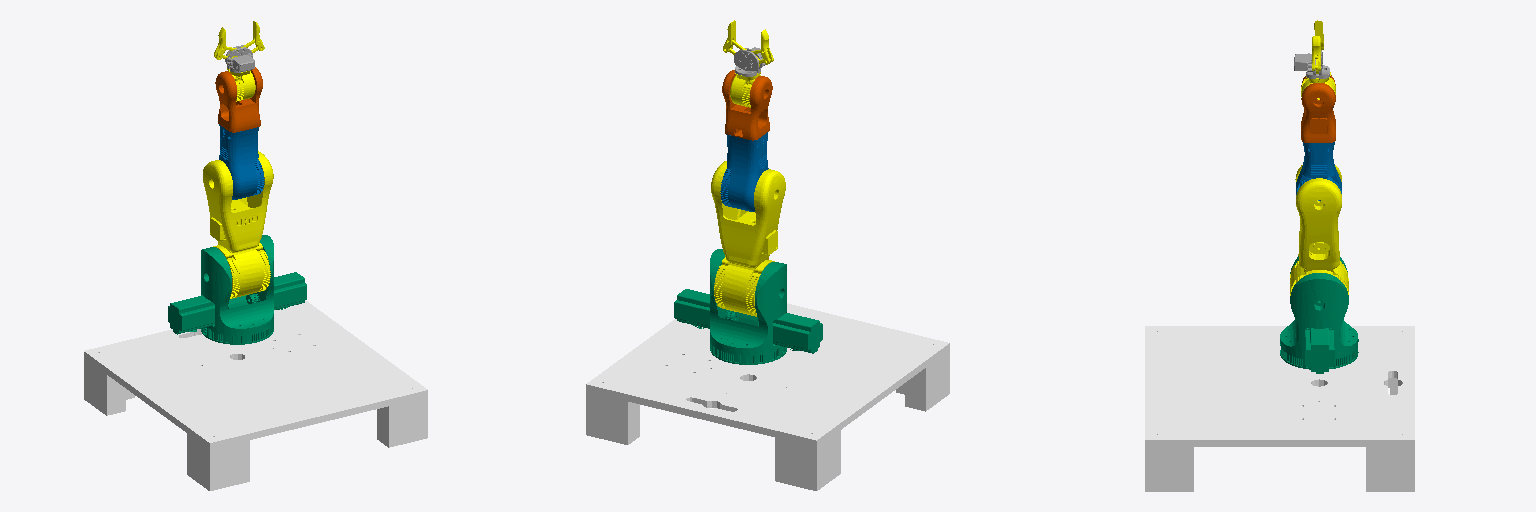
URDF robot description (centauri6dof):
<robot
  name="centauri6dof">

	  <material name="table6dof">
			<color rgba="1 1 1 1"/>
		</material>

	  <material name="black6dof">
			<color rgba="0.2 0,[number redacted] 0,[number redacted] 1"/>
		</material>

	  <material name="yellow6dof">
			<color rgba="1 1 0 1"/>
		</material>

  <link
    name="base_link">
    <inertial>
      <origin
        xyz="-3.87008276523659E-05 -0.0817645704237657 -0.030378156140952"
        rpy="0 0 0" />
      <mass
        value="3.65383133115989" />
      <inertia
        ixx="0.0796437064139586"
        ixy="-1.35807816685381E-07"
        ixz="3.16441218494544E-06"
        iyy="0.0796383423261766"
        iyz="0.000125066867569525"
        izz="0.153453766842238" />
    </inertial>
    <visual>
      <origin
        xyz="0 0 0"
        rpy="0 0 0" />
      <geometry>
        <mesh
          filename="package://centauri6dof/meshes/base_link.STL" />
      </geometry>
			<material name="table6dof"/>
    </visual>
    <collision>
      <origin
        xyz="0 0 0"
        rpy="0 0 0" />
      <geometry>
        <mesh
          filename="package://centauri6dof/meshes/base_link.STL" />
      </geometry>
    </collision>
  </link>
<!--//////////////////////////////////////////////////////////-->
  <link
    name="link0">
    <inertial>
      <origin
        xyz="0.0807291362657826 1.35637930692711E-07 0.0322703892739422"
        rpy="0 0 0" />
      <mass
        value="1.5913265865128" />
      <inertia
        ixx="5.94829545708689E-05"
        ixy="-1.38396838427451E-08"
        ixz="0.000236581332428518"
        iyy="0.00772725923039858"
        iyz="5.49261711838682E-09"
        izz="0.00774092887972647" />
    </inertial>
    <visual>
      <origin
        xyz="0 0 0"
        rpy="0 0 0" />
      <geometry>
        <mesh
          filename="package://centauri6dof/meshes/link0.STL" />
      </geometry>
      <material name="yellow6dof"/>
    </visual>
    <collision>
      <origin
        xyz="0 0 0"
        rpy="0 0 0" />
      <geometry>
        <mesh
          filename="package://centauri6dof/meshes/link0.STL" />
      </geometry>
    </collision>
  </link>
  <joint
    name="joint0"
    type="fixed">
    <origin
      xyz="0 0 0"
      rpy="0 0 0" />
    <parent
      link="base_link" />
    <child
      link="link0" />
    <axis
      xyz="0 0 0" />
  </joint>
<!--//////////////////////////////////////////////////////////-->
  <link
    name="link1">
    <inertial>
      <origin
        xyz="3.76244275456517E-05 0.07417823767633 -8.98233600953868E-05"
        rpy="0 0 0" />
      <mass
        value="2.01538850239224" />
      <inertia
        ixx="0.00353227137515841"
        ixy="9.696639397941E-06"
        ixz="0.00297171917890993"
        iyy="0.0074634181349595"
        iyz="-1.00852639929973E-06"
        izz="0.0080464620891467" />
    </inertial>
    <visual>
      <origin
        xyz="0 0 0"
        rpy="0 0 0" />
      <geometry>
        <mesh
          filename="package://centauri6dof/meshes/link1.STL" />
      </geometry>
      <material name="black6dof"/>
    </visual>
    <collision>
      <origin
        xyz="0 0 0"
        rpy="0 0 0" />
      <geometry>
        <mesh
          filename="package://centauri6dof/meshes/link1.STL" />
      </geometry>
    </collision>
  </link>
  <joint
    name="joint1"
    type="revolute">
    <origin
      xyz="0 0 0.0660000000000001"
      rpy="1.5707963267949 0 -0.452226747641724" />
    <parent
      link="link0" />
    <child
      link="link1" />
    <axis
      xyz="0 1 0" />
     <limit
      lower="-1.5707"
      upper="1.5707"
      effort="300"
      velocity="1" />
  </joint>
<!--//////////////////////////////////////////////////////////-->
  <link
    name="link2">
    <inertial>
      <origin
        xyz="0.00019803 0.082039 0.0010087"
        rpy="0 0 0" />
      <mass
        value="1.9635" />
      <inertia
        ixx="0.012176"
        ixy="-2.6636E-05"
        ixz="-4.6349E-07"
        iyy="0.00060347"
        iyz="-0.00013766"
        izz="0.011573" />
    </inertial>
    <visual>
      <origin
        xyz="0 0 0"
        rpy="0 0 0" />
      <geometry>
        <mesh
          filename="package://centauri6dof/meshes/link2.STL" />
      </geometry>
      <material name="yellow6dof"/>
    </visual>
    <collision>
      <origin
        xyz="0 0 0"
        rpy="0 0 0" />
      <geometry>
        <mesh
          filename="package://centauri6dof/meshes/link2.STL" />
      </geometry>
    </collision>
  </link>
  <joint
    name="joint2"
    type="revolute">
    <origin
      xyz="0 0.1455 0"
      rpy="0 -1.11019042810366 0" />
    <parent
      link="link1" />
    <child
      link="link2" />
    <axis
      xyz="0 0 -1" />
    <limit
      lower="-1.5707"
      upper="1.5707"
      effort="5"
      velocity="1" />
  </joint>
<!--//////////////////////////////////////////////////////////-->
  <link
    name="link3">
    <inertial>
      <origin
        xyz="0.000626139076089688 0.0486487096653359 0.000675674262400602"
        rpy="0 0 0" />
      <mass
        value="1.18050061400462" />
      <inertia
        ixx="0.000542025469135715"
        ixy="-1.13899929472064E-05"
        ixz="-2.51651442756918E-07"
        iyy="0.000253426581911029"
        iyz="-1.51961207048325E-05"
        izz="0.000289498592185195" />
    </inertial>
    <visual>
      <origin
        xyz="0 0 0"
        rpy="0 0 0" />
      <geometry>
        <mesh
          filename="package://centauri6dof/meshes/link3.STL" />
      </geometry>
      <material name="black6dof"/>
    </visual>
    <collision>
      <origin
        xyz="0 0 0"
        rpy="0 0 0" />
      <geometry>
        <mesh
          filename="package://centauri6dof/meshes/link3.STL" />
      </geometry>
    </collision>
  </link>
  <joint
    name="joint3"
    type="revolute">
    <origin
      xyz="0.000683655378621667 0.221122735963581 -0.0034958933328718"
      rpy="-3.51525449374113E-16 3.46944695195361E-18 0" />
    <parent
      link="link2" />
    <child
      link="link3" />
    <axis
      xyz="0 0 -1" />
    <limit
      lower="-1.5707"
      upper="1.5707"
      effort="5"
      velocity="1" />
  </joint>
<!--//////////////////////////////////////////////////////////-->
  <link
    name="link4">
    <inertial>
      <origin
        xyz="0.011293 -0.00022493 0.045445"
        rpy="0 0 0" />
      <mass
        value="0.65268" />
      <inertia
        ixx="4.43E-05"
        ixy="-1.9291E-06"
        ixz="5.7823E-05"
        iyy="0.00012329"
        iyz="1.4718E-06"
        izz="7.9091E-05" />
    </inertial>
    <visual>
      <origin
        xyz="0 0 0"
        rpy="0 0 0" />
      <geometry>
        <mesh
          filename="package://centauri6dof/meshes/link4.STL" />
      </geometry>
      <material name="black6dof"/>
    </visual>
    <collision>
      <origin
        xyz="0 0 0"
        rpy="0 0 0" />
      <geometry>
        <mesh
          filename="package://centauri6dof/meshes/link4.STL" />
      </geometry>
    </collision>
  </link>
  <joint
    name="joint4"
    type="revolute">
    <origin
      xyz="0.00043975 0.1275 0"
      rpy="-1.5708 1.5624 -0.0034491" />
    <parent
      link="link3" />
    <child
      link="link4" />
    <axis
      xyz="0 0 1" />
  <limit
      lower="-1.5707"
      upper="1.5707"
      effort="5"
      velocity="1" />
  </joint>
<!--//////////////////////////////////////////////////////////-->
  <link
    name="link5">
    <inertial>
      <origin
        xyz="0.00013449 0.004274 -0.00031217"
        rpy="0 0 0" />
      <mass
        value="0.16415" />
      <inertia
        ixx="3.7602E-05"
        ixy="-5.5077E-07"
        ixz="9.5822E-09"
        iyy="2.0116E-05"
        iyz="3.0426E-07"
        izz="1.7521E-05" />
    </inertial>
    <visual>
      <origin
        xyz="0 0 0"
        rpy="0 0 0" />
      <geometry>
        <mesh
          filename="package://centauri6dof/meshes/link5.STL" />
      </geometry>
      <material name="yellow6dof"/>
    </visual>
    <collision>
      <origin
        xyz="0 0 0"
        rpy="0 0 0" />
      <geometry>
        <mesh
          filename="package://centauri6dof/meshes/link5.STL" />
      </geometry>
    </collision>
  </link>
  <joint
    name="joint5"
    type="revolute">
    <origin
      xyz="-0.000999998579141709 0 0.0950000000001046"
      rpy="1.5707963267949 -0.0171419017753631 -1.56911057527423" />
    <parent
      link="link4" />
    <child
      link="link5" />
    <axis
      xyz="0 0 -1" />
  <limit
      lower="-1.5707"
      upper="1.5707"
      effort="5"
      velocity="1" />
  </joint>
<!--//////////////////////////////////////////////////////////-->
  <link
    name="link6">
    <inertial>
      <origin
        xyz="-0.0028307 -0.014417 0.020832"
        rpy="0 0 0" />
      <mass
        value="0.064418" />
      <inertia
        ixx="1.6924E-05"
        ixy="-3.1692E-06"
        ixz="6.6553E-07"
        iyy="1.3455E-06"
        iyz="2.861E-06"
        izz="1.7067E-05" />
    </inertial>
    <visual>
      <origin
        xyz="0 0 0"
        rpy="0 0 0" />
      <geometry>
        <mesh
          filename="package://centauri6dof/meshes/link6.STL" />
      </geometry>
      <material name="black6dof"/>
    </visual>
    <collision>
      <origin
        xyz="0 0 0"
        rpy="0 0 0" />
      <geometry>
        <mesh
          filename="package://centauri6dof/meshes/link6.STL" />
      </geometry>
    </collision>
  </link>
  <joint
    name="joint6"
    type="revolute">
    <origin
      xyz="0.0012895 0.04098 0"
      rpy="1.6915E-08 1.5707 1.5393" />
    <parent
      link="link5" />
    <child
      link="link6" />
    <axis
      xyz="5.3025E-05 0 1" />
  <limit
      lower="-1.5707"
      upper="1.5707"
      effort="5"
      velocity="1" />
  </joint>
<!--//////////////////////////////////////////////////////////-->
  <link
    name="gear1">
    <inertial>
      <origin
        xyz="-0.0065946 -0.00039537 -0.003"
        rpy="0 0 0" />
      <mass
        value="0.0048785" />
      <inertia
        ixx="0"
        ixy="0"
        ixz="0"
        iyy="0"
        iyz="0"
        izz="0" />
    </inertial>
    <visual>
      <origin
        xyz="0 0 0"
        rpy="0 0 0" />
      <geometry>
        <mesh
          filename="package://centauri6dof/meshes/gear1.STL" />
      </geometry>
      <material name="yellow6dof"/>
    </visual>
    <collision>
      <origin
        xyz="0 0 0"
        rpy="0 0 0" />
      <geometry>
        <mesh
          filename="package://centauri6dof/meshes/gear1.STL" />
      </geometry>
    </collision>
  </link>
  <joint
    name="joint_gear1"
    type="revolute">
    <origin
      xyz="-0.0141687811604771 -0.00205172513025526 0.0240007513303376"
      rpy="1.57079248092531 0.383949555179722 -0.0673010584807898" />
    <parent
      link="link6" />
    <child
      link="gear1" />
    <axis
      xyz="0 0 1" />
   <limit
      lower="-0.95"
      upper="0"
      effort="5"
      velocity="1" />
   </joint>
<!--//////////////////////////////////////////////////////////-->
  <link
    name="pinza1">
    <inertial>
      <origin
        xyz="-0.00410677673607357 0.0288723262754511 -0.00325238297571179"
        rpy="0 0 0" />
      <mass
        value="0.0104910711600225" />
      <inertia
        ixx="0"
        ixy="0"
        ixz="0"
        iyy="0"
        iyz="0"
        izz="0" />
    </inertial>
    <visual>
      <origin
        xyz="0 0 0"
        rpy="0 0 0" />
      <geometry>
        <mesh
          filename="package://centauri6dof/meshes/pinza1.STL" />
      </geometry>
      <material name="yellow6dof"/>
    </visual>
    <collision>
      <origin
        xyz="0 0 0"
        rpy="0 0 0" />
      <geometry>
        <mesh
          filename="package://centauri6dof/meshes/pinza1.STL" />
      </geometry>
    </collision>
  </link>
  <joint
    name="joint_pinza1"
    type="continuous">
    <origin
      xyz="-0.0399999999999999 0 0"
      rpy="1.9909768278481E-13 -6.93889390390723E-18 1.08550321509249E-15" />
    <parent
      link="gear1" />
    <child
      link="pinza1" />
    <axis
      xyz="0 0 1" />
		<limit
      lower="-1.5"
      upper="0"
      effort="5"
      velocity="1" />
   <mimic joint="joint_gear1" multiplier="-1" offset="0"/> 
   </joint>
<!--//////////////////////////////////////////////////////////-->
  <link
    name="gear2">
    <inertial>
      <origin
        xyz="-0.00645273828292098 0.000406646504403807 -0.00300000575998524"
        rpy="0 0 0" />
      <mass
        value="0.00500318588067354" />
      <inertia
        ixx="0"
        ixy="0"
        ixz="0"
        iyy="0"
        iyz="0"
        izz="0" />
    </inertial>
    <visual>
      <origin
        xyz="0 0 0"
        rpy="0 0 0" />
      <geometry>
        <mesh
          filename="package://centauri6dof/meshes/gear2.STL" />
      </geometry>
      <material name="yellow6dof"/>
    </visual>
    <collision>
      <origin
        xyz="0 0 0"
        rpy="0 0 0" />
      <geometry>
        <mesh
          filename="package://centauri6dof/meshes/gear2.STL" />
      </geometry>
    </collision>
  </link>
  <joint
    name="joint_gear2"
    type="revolute">
    <origin
      xyz="0.0137678333896608 -0.00393469228070031 0.0239992699974896"
      rpy="-1.57079245405947 0.400771502354884 3.07429454658117" />
    <parent
      link="link6" />
    <child
      link="gear2" />
    <axis
      xyz="0 0 1" />
   <limit
      lower="0"
      upper="0.95"
      effort="5"
      velocity="1" />
    <!--<mimic joint="joint_gear1" multiplier="-1" offset="0"/>-->
  </joint>
<!--//////////////////////////////////////////////////////////-->
  <link
    name="pinza2">
    <inertial>
      <origin
        xyz="-0.00459491181291338 -0.028798660398803 -0.00325244127537946"
        rpy="0 0 0" />
      <mass
        value="0.0104910911949307" />
      <inertia
        ixx="0"
        ixy="0"
        ixz="0"
        iyy="0"
        iyz="0"
        izz="0" />
    </inertial>
    <visual>
      <origin
        xyz="0 0 0"
        rpy="0 0 0" />
      <geometry>
        <mesh
          filename="package://centauri6dof/meshes/pinza2.STL" />
      </geometry>
      <material name="yellow6dof"/>
    </visual>
    <collision>
      <origin
        xyz="0 0 0"
        rpy="0 0 0" />
      <geometry>
        <mesh
          filename="package://centauri6dof/meshes/pinza2.STL" />
      </geometry>
    </collision>
  </link>
  <joint
    name="joint_pinza2"
    type="revolute">
    <origin
      xyz="-0.0399999999999999 0 0"
      rpy="1.97708169280553E-13 0 1.18785190017512E-15" />
    <parent
      link="gear2" />
    <child
      link="pinza2" />
    <axis
      xyz="0 0 1" />
    <limit
      lower="-1.5"
      upper="0"
      effort="5"
      velocity="1" />
    <mimic joint="joint_gear2" multiplier="-1" offset="0"/>
  </joint>
<!--//////////////////////////////////////////////////////////-->
  <link
    name="pivot1">
    <inertial>
      <origin
        xyz="-0.019999999999913 3.73034936274053E-14 -0.00299999999909059"
        rpy="0 0 0" />
      <mass
        value="0.00167027391699942" />
      <inertia
        ixx="0"
        ixy="0"
        ixz="0"
        iyy="0"
        iyz="0"
        izz="0" />
    </inertial>
    <visual>
      <origin
        xyz="0 0 0"
        rpy="0 0 0" />
      <geometry>
        <mesh
          filename="package://centauri6dof/meshes/pivot1.STL" />
      </geometry>
      <material name="yellow6dof"/>
    </visual>
    <collision>
      <origin
        xyz="0 0 0"
        rpy="0 0 0" />
      <geometry>
        <mesh
          filename="package://centauri6dof/meshes/pivot1.STL" />
      </geometry>
    </collision>
  </link>
  <joint
    name="joint_pivot1"
    type="revolute">
    <origin
      xyz="-0.00718356702735162 -0.0025224669175542 0.044000380969009"
      rpy="1.57079248092551 0.383949555179722 -0.0673010584807898" />
    <parent
      link="link6" />
    <child
      link="pivot1" />
    <axis
      xyz="0 0 1" />
    <limit
      lower="-1.5707"
      upper="1.5707"
      effort="5"
      velocity="1" />
    <mimic joint="joint_gear1" multiplier="1" offset="0"/> 
  </joint>
<!--//////////////////////////////////////////////////////////-->
  <link
    name="pivot2">
    <inertial>
      <origin
        xyz="-0.0200000000003783 1.7963408538435E-13 -0.00299999999915881"
        rpy="0 0 0" />
      <mass
        value="0.00167027391699937" />
      <inertia
        ixx="0"
        ixy="0"
        ixz="0"
        iyy="0"
        iyz="0"
        izz="0" />
    </inertial>
    <visual>
      <origin
        xyz="0 0 0"
        rpy="0 0 0" />
      <geometry>
        <mesh
          filename="package://centauri6dof/meshes/pivot2.STL" />
      </geometry>
      <material name="yellow6dof"/>
    </visual>
    <collision>
      <origin
        xyz="0 0 0"
        rpy="0 0 0" />
      <geometry>
        <mesh
          filename="package://centauri6dof/meshes/pivot2.STL" />
      </geometry>
    </collision>
  </link>
  <joint
    name="joint_pivot2"
    type="revolute">
    <origin
      xyz="0.00678474024778378 -0.00346395049278106 0.0439996403025864"
      rpy="-1.57079245405947 0.400771502354882 3.07429454658117" />
    <parent
      link="link6" />
    <child
      link="pivot2" />
    <axis
      xyz="0 0 1" />
   <limit
      lower="-1.5707"
      upper="1.5707"
      effort="5"
      velocity="1" />
    <mimic joint="joint_gear2" multiplier="1" offset="0"/>
  </joint>
</robot>

--- What the picture shows (computed from the rendered views, not written in the file) ---
Views: 3 orthographic renders of the robot side by side, from view 1: azimuth 30°, elevation 25°; view 2: azimuth 150°, elevation 25°; view 3: azimuth 270°, elevation 25°.
Robot: centauri6dof — 14 links, 13 joints (11 revolute, 1 continuous, 1 fixed); root link base_link; default pose: every joint at zero.
Links seen in each view (by area): view 1: base_link, link1, link2, link3, link4, link6, link5; view 2: base_link, link1, link2, link3, link4, link6, link5; view 3: base_link, link1, link2, link4, link3, link6.
Link boxes in pixels (x1=…): base_link: x1=84, y1=300, x2=427, y2=490; link1: x1=168, y1=235, x2=306, y2=344; link2: x1=203, y1=151, x2=273, y2=298; link3: x1=219, y1=124, x2=264, y2=199; link4: x1=215, y1=67, x2=262, y2=132; link6: x1=225, y1=45, x2=254, y2=72; link5: x1=227, y1=68, x2=255, y2=101; base_link: x1=586, y1=303, x2=949, y2=490; link1: x1=674, y1=249, x2=822, y2=364; link2: x1=711, y1=161, x2=785, y2=316; link3: x1=720, y1=132, x2=768, y2=211; link4: x1=722, y1=70, x2=772, y2=140; link6: x1=734, y1=47, x2=765, y2=76; link5: x1=730, y1=72, x2=760, y2=107; base_link: x1=1145, y1=326, x2=1414, y2=491; link1: x1=1280, y1=256, x2=1358, y2=373; link2: x1=1290, y1=165, x2=1348, y2=295; link4: x1=1301, y1=75, x2=1335, y2=142; link3: x1=1296, y1=142, x2=1341, y2=200; link6: x1=1294, y1=50, x2=1329, y2=78.
Bounding box of the posed robot: 0.55 × 0.55 × 0.9163 m (x, y, z).
13 mesh visuals loaded from 14 distinct referenced files (13 binary STL); not drawn: 1 (reference not matched to a file when rendering).